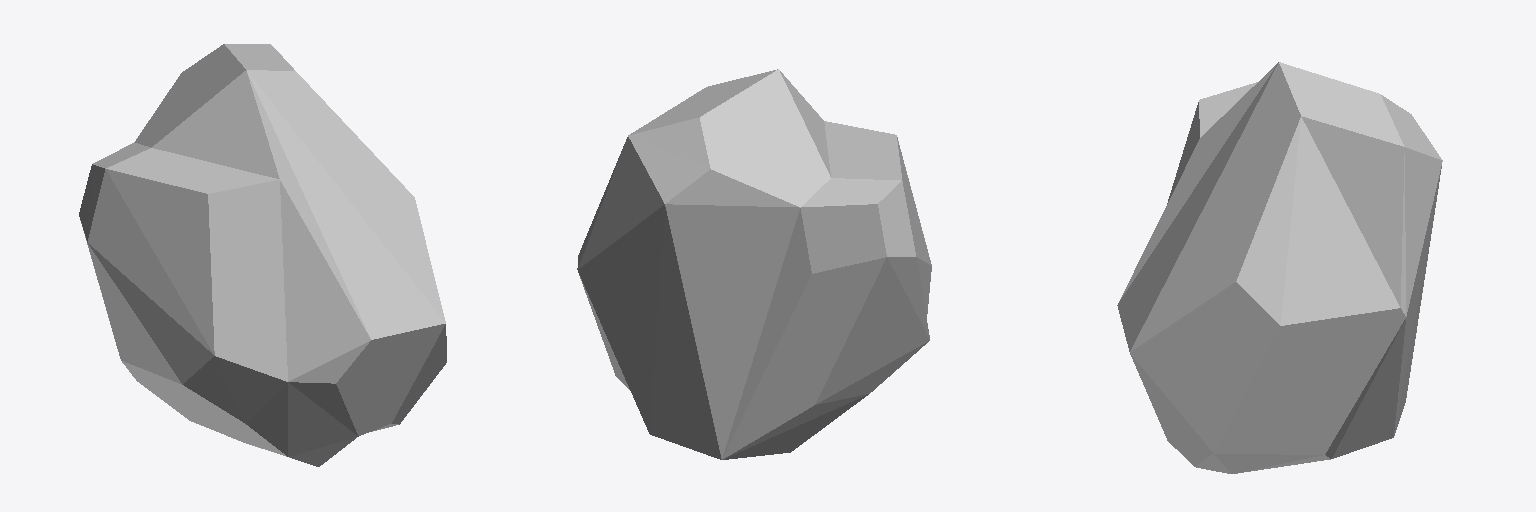
File: Asteroids_Single_B.obj
The picture shows the model from 3 angles: view 1: azimuth 30°, elevation 25°; view 2: azimuth 150°, elevation 25°; view 3: azimuth 270°, elevation 25°; orthographic projection.
Parts seen in each view (by area): view 1: RockA002_01; view 2: RockA002_01; view 3: RockA002_01.
Boxes of the visible parts, x1,y1,x2,y2 form: RockA002_01: [79, 44, 446, 466]; RockA002_01: [577, 69, 931, 459]; RockA002_01: [1117, 62, 1442, 473].
Bounding box in the file's own units: 33.42 × 38.07 × 29.71.